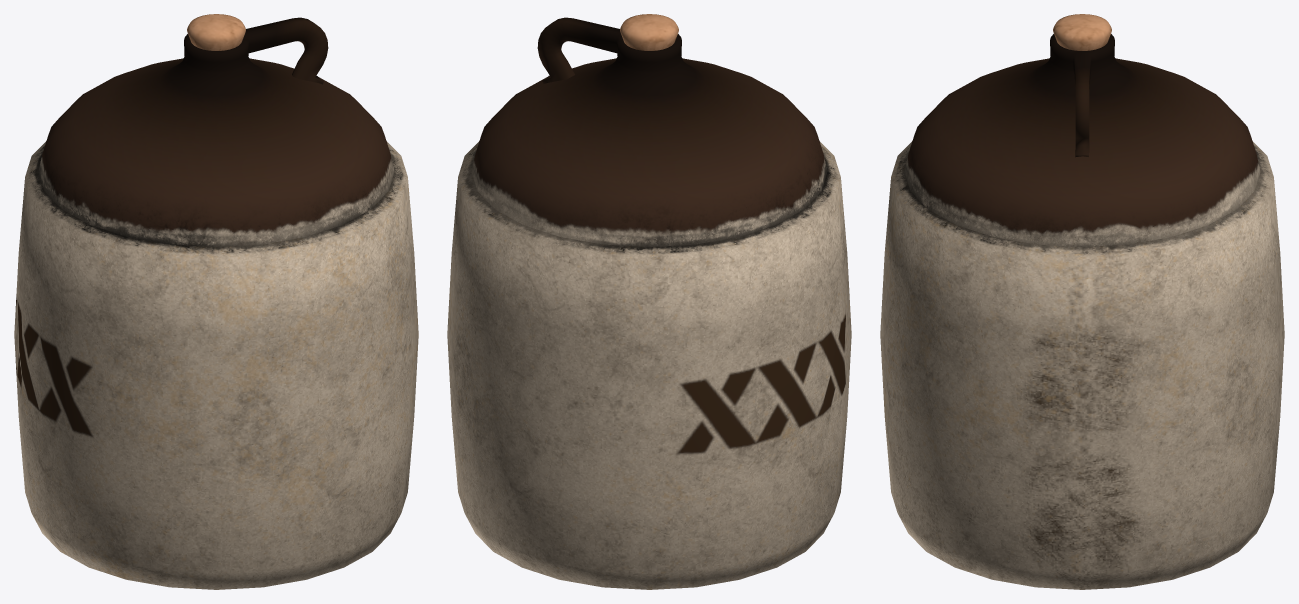
The model's file is moonshine.fbx.
The picture shows the model from 3 angles, left to right: view 1: azimuth 30°, elevation 25°; view 2: azimuth 150°, elevation 25°; view 3: azimuth 270°, elevation 25°; orthographic projection.
Visible parts, largest first — view 1: moonshine; view 2: moonshine; view 3: moonshine.
Boxes of the visible parts, <box> form: moonshine: <box>14,14,418,589</box>; moonshine: <box>447,14,851,589</box>; moonshine: <box>880,14,1284,589</box>.
Size of the model in its own units: 45.57 by 62.5 by 45.57.
